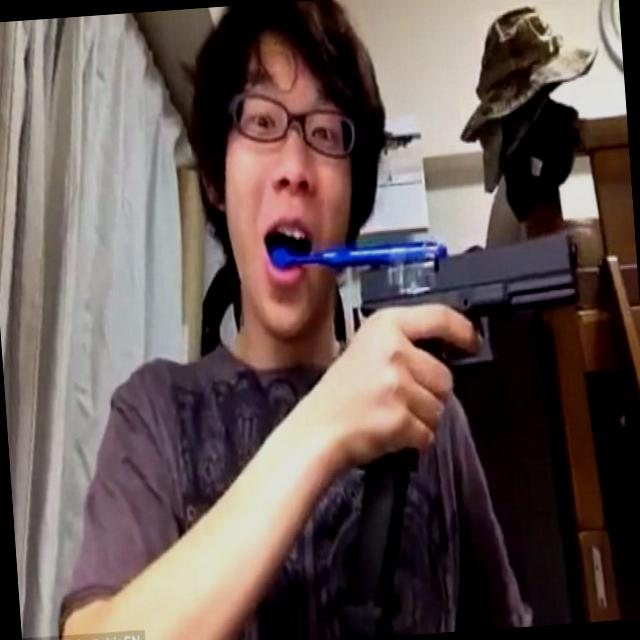handgun: (347, 218, 596, 475)
